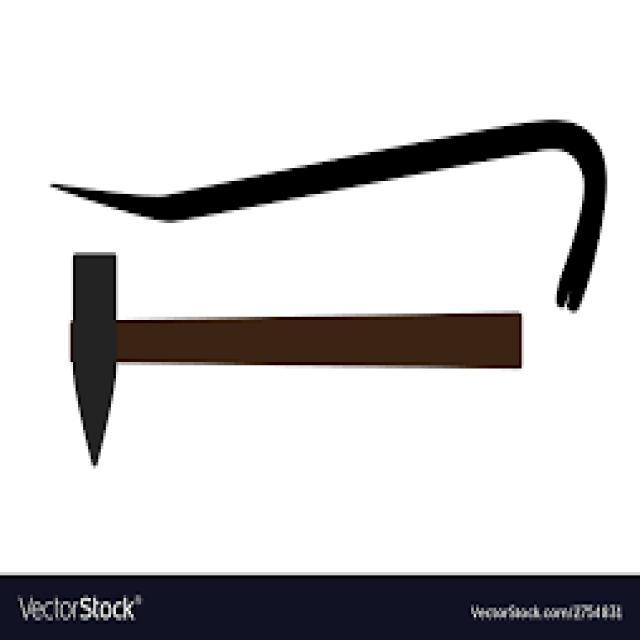Palu: (58, 239, 534, 467)
